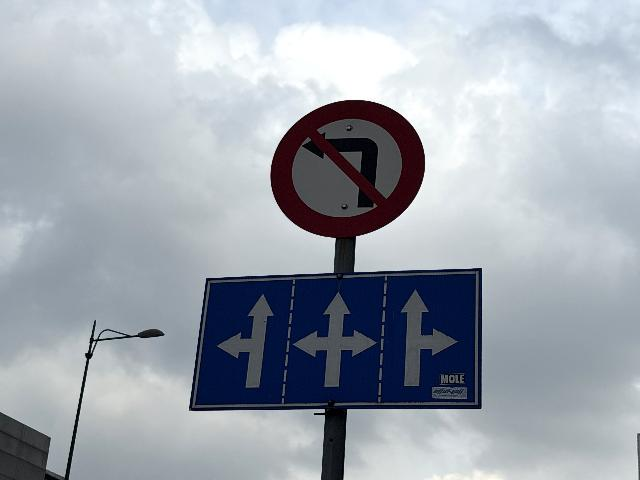cam-re-trai: (269, 98, 428, 240)
